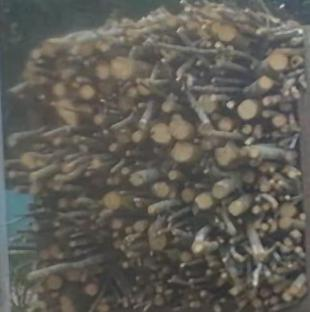medium: (111, 58, 132, 78), (236, 102, 257, 121), (215, 147, 236, 166), (152, 124, 172, 143), (173, 143, 192, 161), (270, 53, 288, 71), (171, 121, 188, 139), (96, 60, 110, 80), (197, 194, 213, 211), (199, 96, 215, 113), (105, 193, 121, 209), (221, 25, 236, 42), (151, 233, 166, 249), (279, 203, 295, 217), (218, 119, 233, 133), (47, 276, 62, 290), (155, 184, 171, 197), (214, 185, 228, 199), (86, 282, 100, 296), (273, 115, 287, 128), (201, 122, 214, 136), (230, 202, 242, 217), (81, 87, 95, 99), (260, 75, 272, 89), (54, 83, 66, 96), (244, 172, 256, 184), (130, 174, 142, 185), (279, 218, 291, 229), (260, 182, 270, 192)
small: (182, 190, 192, 201), (135, 221, 145, 232), (250, 148, 260, 158), (243, 125, 252, 134), (261, 288, 270, 297), (290, 285, 299, 294), (111, 219, 120, 228), (253, 299, 261, 309), (134, 132, 142, 141), (283, 292, 292, 300), (194, 243, 202, 252), (256, 252, 265, 260), (169, 170, 176, 180), (148, 205, 155, 215), (157, 297, 165, 305), (162, 100, 169, 109), (110, 143, 117, 152), (122, 167, 129, 176), (30, 172, 37, 181), (63, 164, 70, 173), (8, 137, 15, 146), (33, 49, 40, 58), (262, 97, 268, 107), (263, 110, 270, 118), (95, 115, 102, 123), (156, 286, 163, 294), (232, 287, 239, 295), (61, 198, 68, 206), (176, 27, 184, 34), (282, 127, 289, 134), (54, 175, 61, 182), (292, 230, 299, 237), (227, 102, 233, 110), (264, 223, 270, 231), (253, 207, 259, 215), (183, 254, 189, 262), (123, 261, 129, 269), (212, 75, 218, 83), (290, 170, 296, 178), (211, 95, 217, 102), (34, 225, 40, 232), (55, 221, 61, 228), (74, 83, 80, 90), (126, 150, 132, 157), (217, 59, 223, 66), (285, 238, 291, 245), (59, 253, 65, 259), (139, 121, 145, 127), (216, 43, 222, 49), (252, 280, 258, 286), (230, 230, 236, 236), (176, 71, 182, 77), (300, 214, 306, 220), (27, 274, 33, 280), (191, 301, 197, 307), (71, 241, 76, 247), (77, 77, 83, 82), (239, 255, 244, 261), (111, 124, 116, 130), (55, 139, 60, 145), (110, 168, 115, 173), (200, 291, 205, 296), (215, 306, 220, 311), (172, 276, 177, 281), (279, 180, 283, 185), (285, 194, 289, 199), (278, 194, 282, 199), (165, 267, 169, 272), (151, 275, 155, 280), (159, 273, 163, 278), (87, 172, 91, 177), (297, 248, 301, 252), (301, 254, 305, 258), (181, 265, 185, 269), (186, 272, 190, 276), (169, 280, 173, 283), (189, 280, 193, 283)
